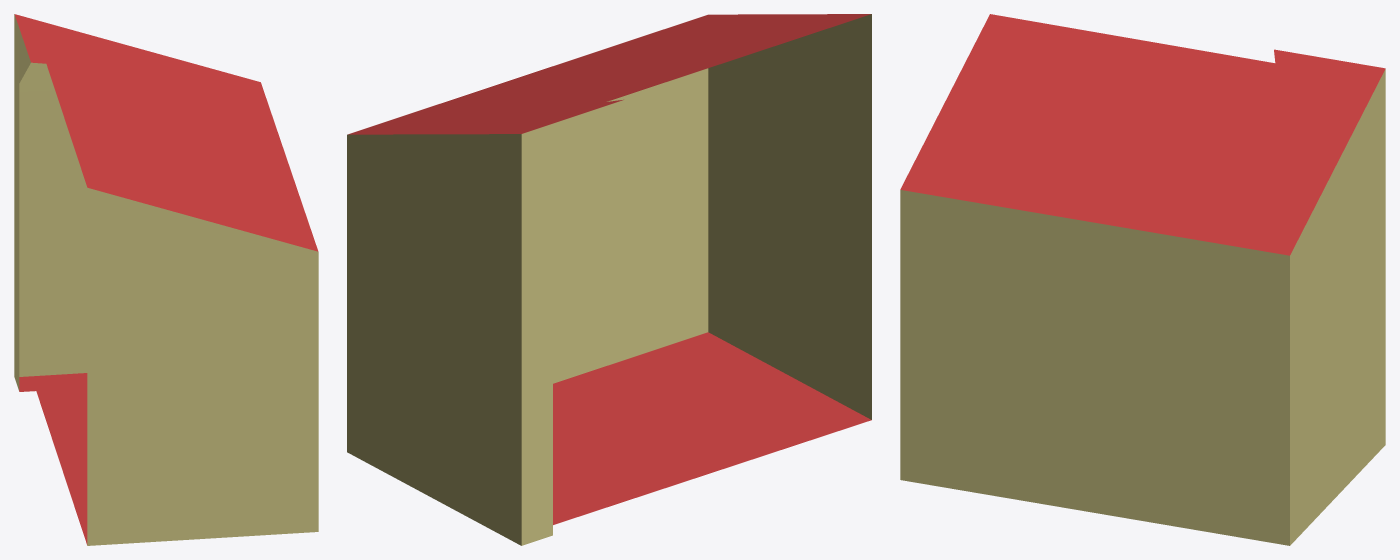
3 renders of one model, left to right at view 1: azimuth 30°, elevation 25°; view 2: azimuth 150°, elevation 25°; view 3: azimuth 270°, elevation 25°, orthographic. The views are drawn at different scales.
Size of the model in its own units: 7.04 by 8.98 by 7.68.
